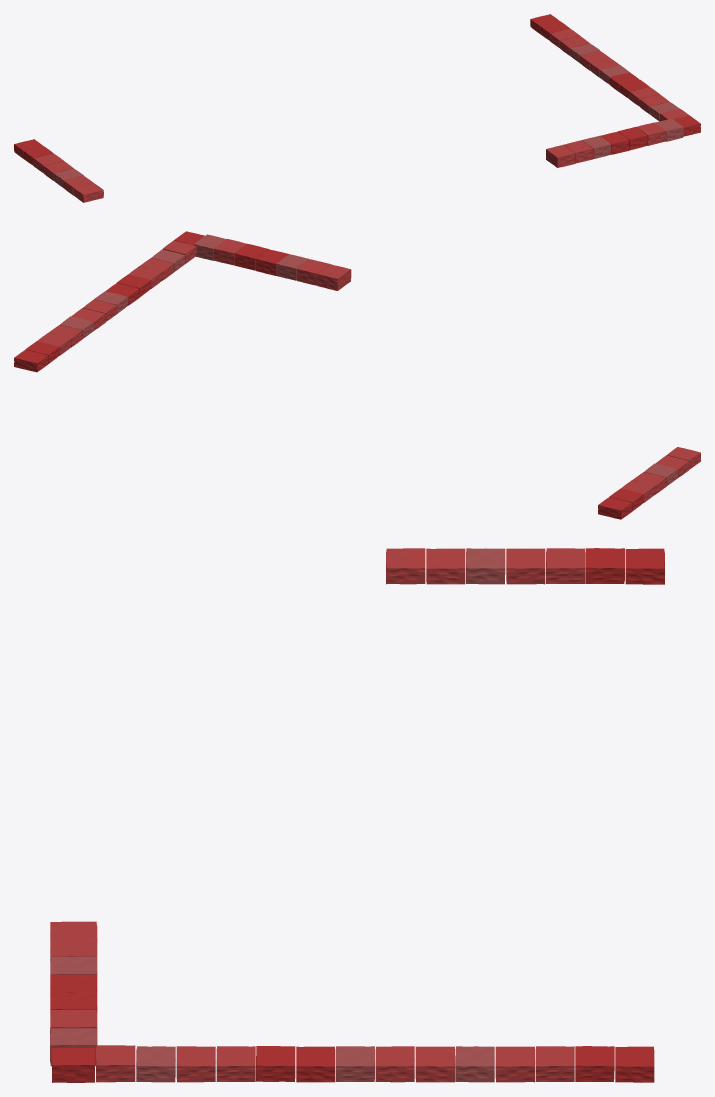
The model's file is veranda brick walls.fbx.
3 renders of one model, top to bottom at view 1: azimuth 30°, elevation 25°; view 2: azimuth 150°, elevation 25°; view 3: azimuth 270°, elevation 25°, orthographic. The views are drawn at different scales.
Visible parts, largest first — view 1: mattoni_corrimano; view 2: mattoni_corrimano; view 3: mattoni_corrimano.
Part boxes in pixels (box(x1,y1,x2,y2)): mattoni_corrimano: box(14, 14, 700, 202); mattoni_corrimano: box(14, 231, 700, 519); mattoni_corrimano: box(50, 548, 664, 1082).
Size of the model in its own units: 630 by 13.67 by 314.
